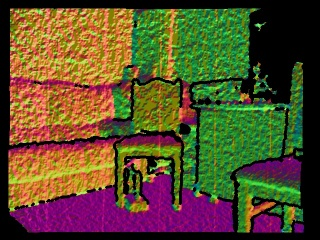station: (123, 168, 149, 214)
